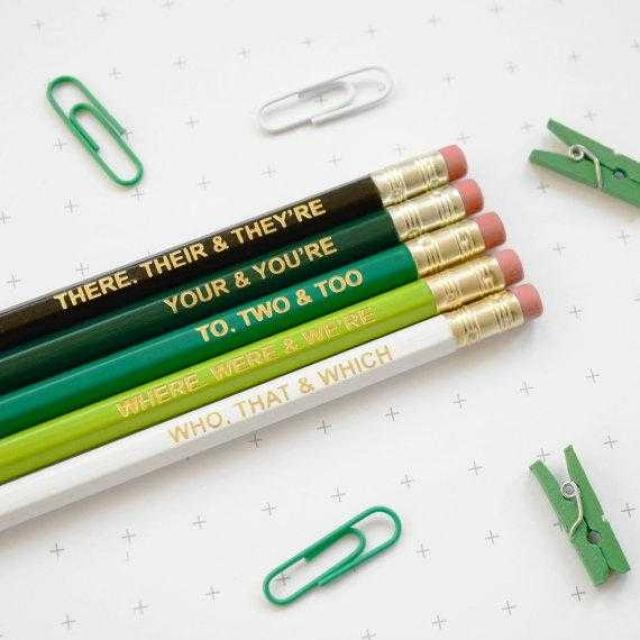pencil: (6, 276, 562, 543), (3, 239, 541, 483), (2, 211, 516, 435), (0, 173, 494, 393), (1, 140, 472, 350)
